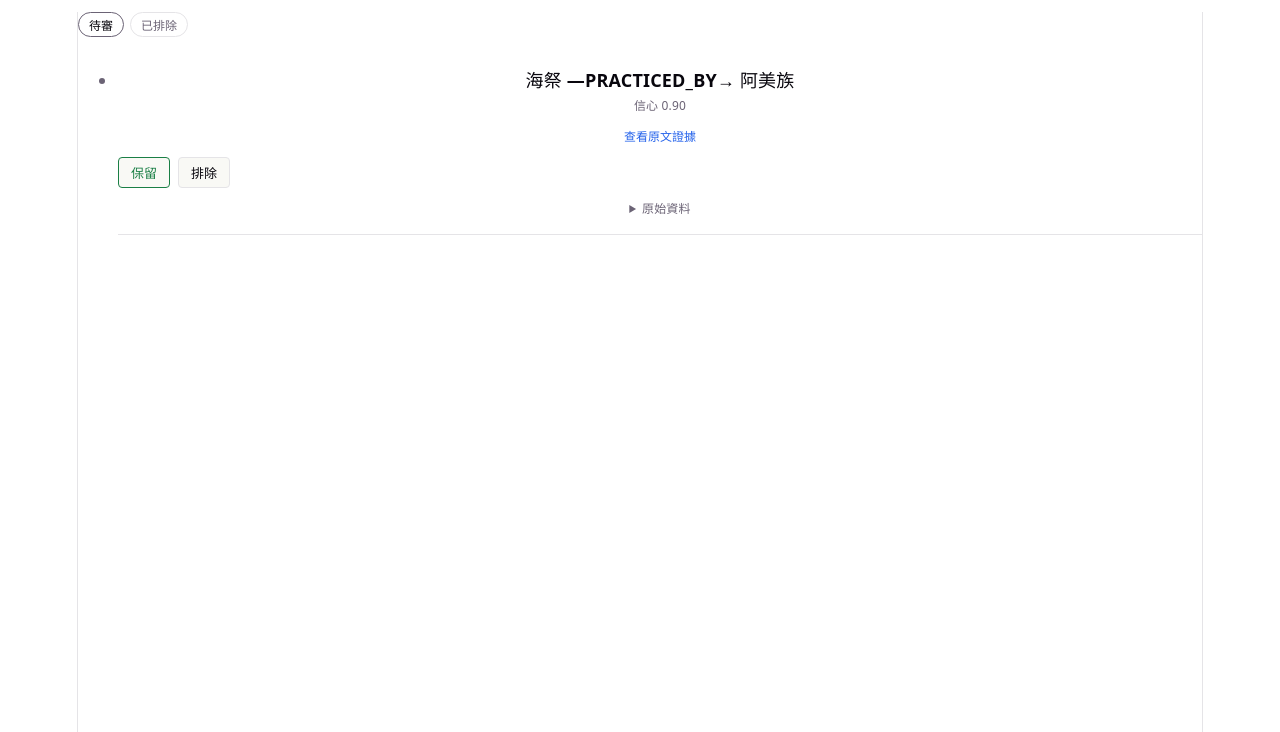
RelationReview › lazily loads the evidence quote on demand (the list omits it)
Check: the text "海祭" is shown, box [526,68,562,92]
Check: the text "頭目率領族人舉行" is not shown
Click the button "查看原文證據" at (660, 136), box [624,127,696,144]
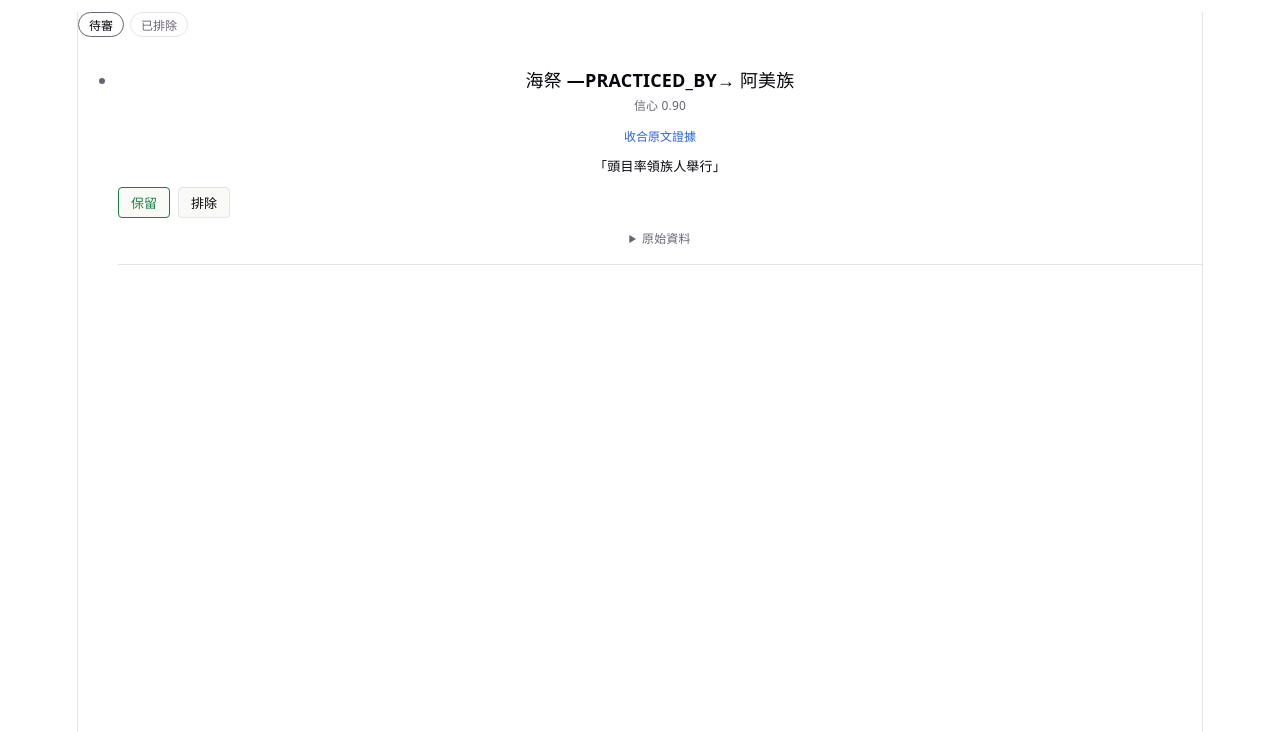
Check: the text "「頭目率領族人舉行」" is shown, box [594,157,726,175]
